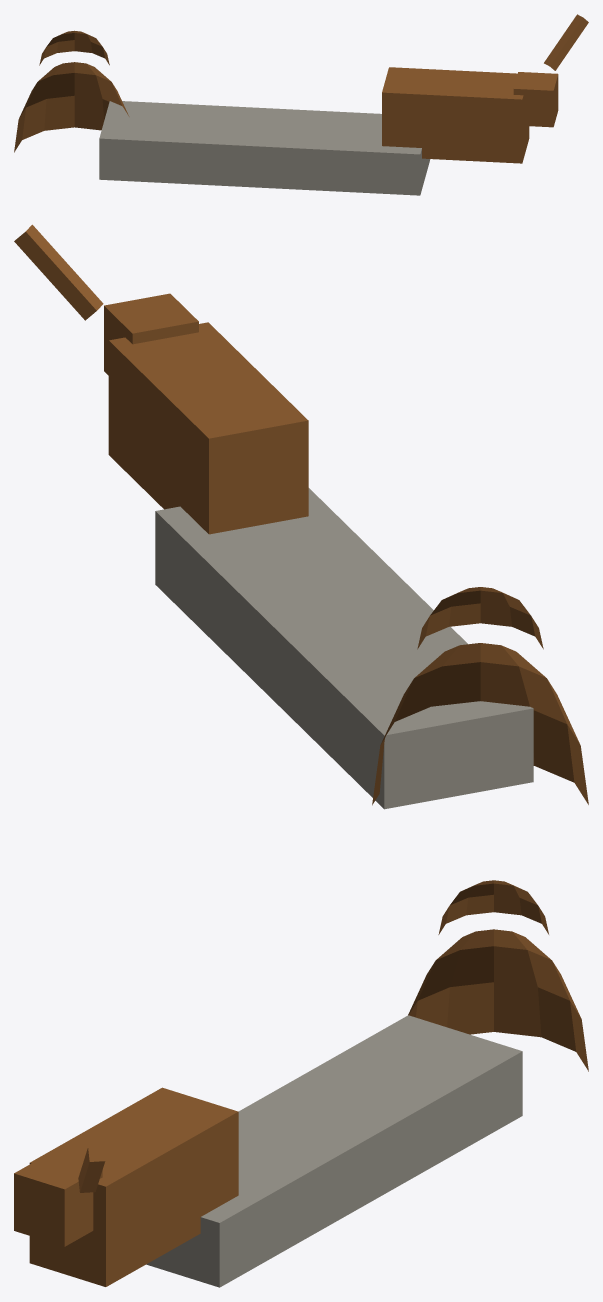
Rendered from wf_bearbull.glb.
The picture shows the model from 3 angles, top to bottom: view 1: azimuth 30°, elevation 25°; view 2: azimuth 150°, elevation 25°; view 3: azimuth 270°, elevation 25°; orthographic projection. The views are drawn at different scales.
Parts seen in each view (by area): view 1: wf_bearbull_lod0; view 2: wf_bearbull_lod0; view 3: wf_bearbull_lod0.
Boxes of the visible parts, box(x1,y1,x2,y2) form: wf_bearbull_lod0: box(14, 14, 588, 195); wf_bearbull_lod0: box(14, 224, 588, 809); wf_bearbull_lod0: box(14, 880, 588, 1287).
Size of what is drawn, in the model's own units: 5.01 by 1.57 by 3.63.
